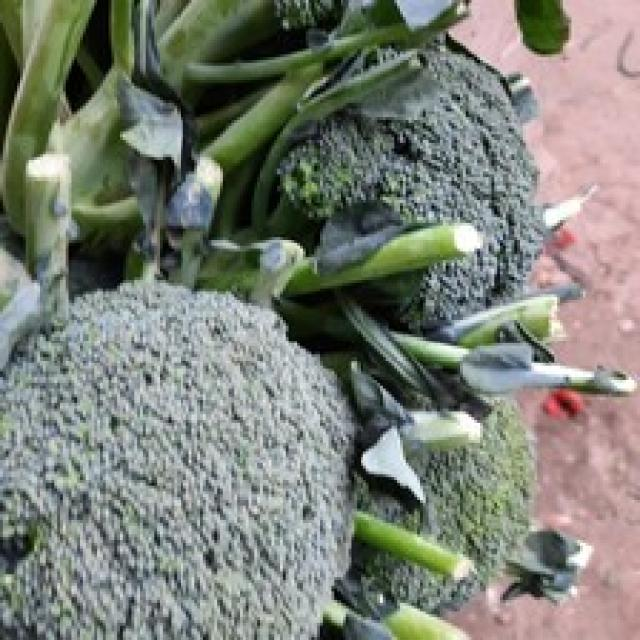Broccoli: (0, 282, 534, 639), (0, 284, 354, 639), (266, 36, 542, 323), (279, 36, 542, 328), (359, 405, 531, 611)
